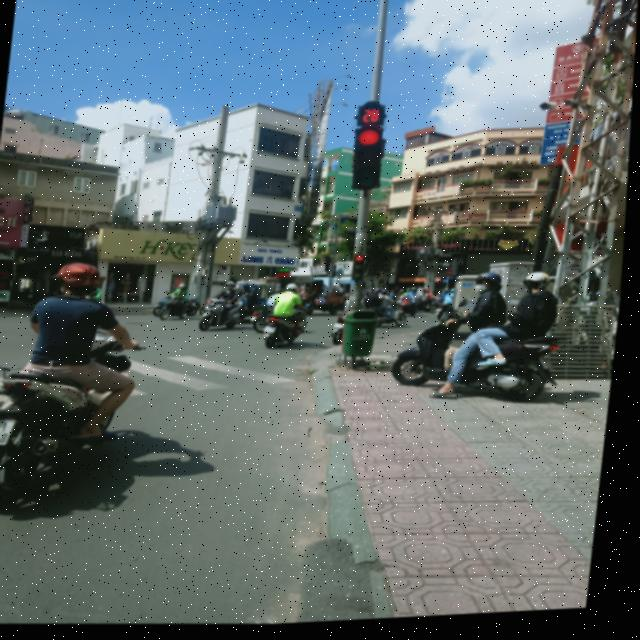Red: (346, 128, 391, 195), (349, 252, 374, 288)
